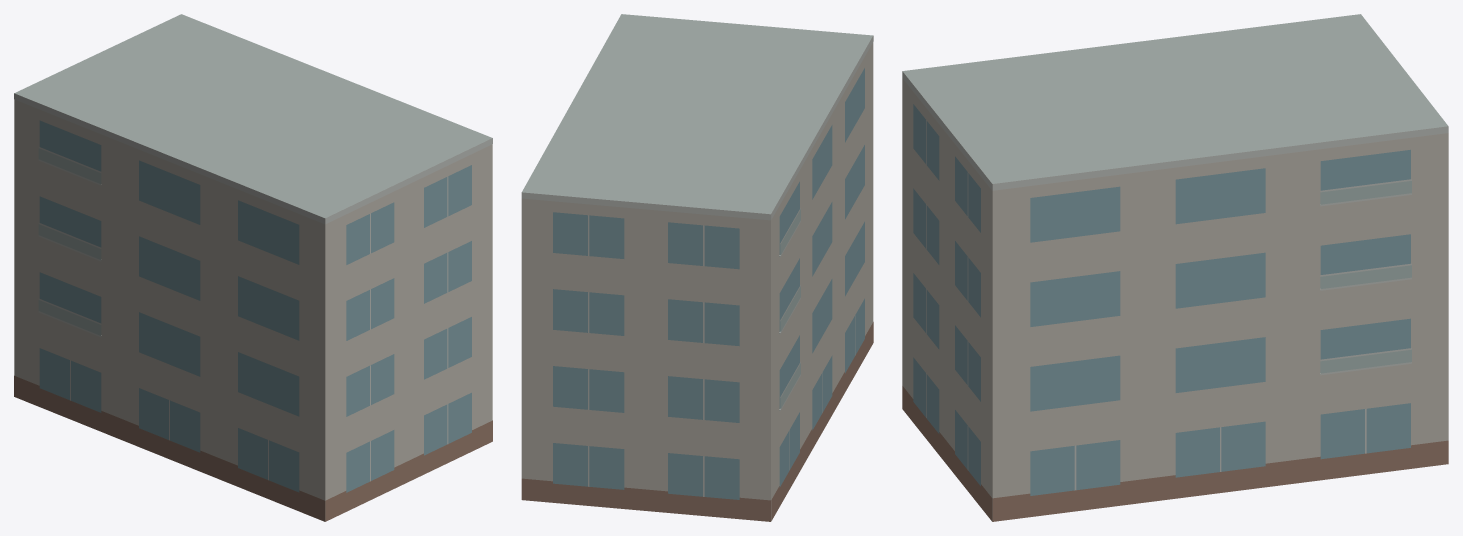
File: survey-upis-32569927.glb
3 renders of one model, left to right at view 1: azimuth 30°, elevation 25°; view 2: azimuth 150°, elevation 25°; view 3: azimuth 270°, elevation 25°, orthographic. The views are drawn at different scales.
Visible parts, largest first — view 1: survey-upis-32569927.tmp; view 2: survey-upis-32569927.tmp; view 3: survey-upis-32569927.tmp.
Boxes of the visible parts, box(x1,y1,x2,y2) form: survey-upis-32569927.tmp: box(14, 14, 492, 521); survey-upis-32569927.tmp: box(521, 14, 873, 521); survey-upis-32569927.tmp: box(902, 14, 1448, 521).
Size of the model in its own units: 13.18 by 12.2 by 17.89.
